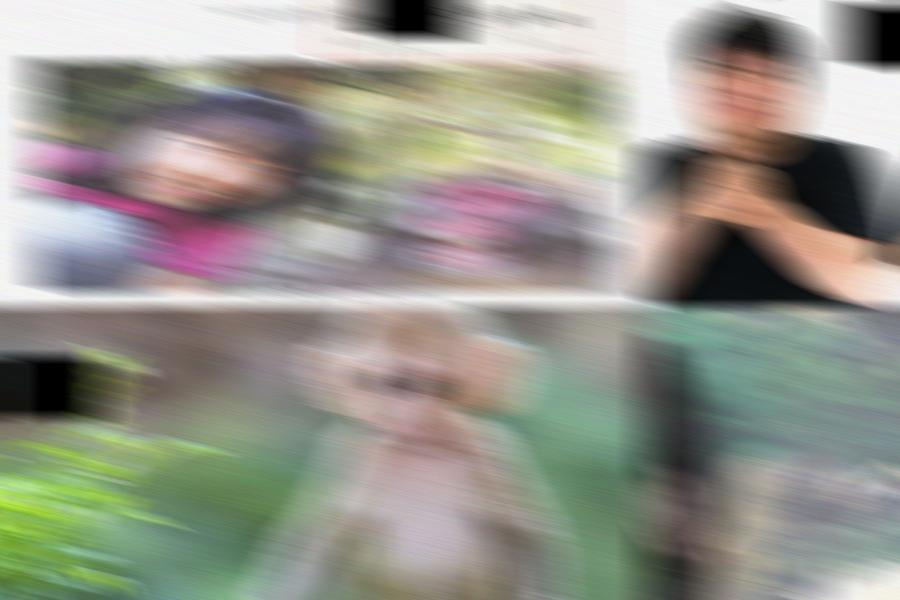Macaca fuscata: (195, 304, 588, 600), (339, 158, 628, 294)
chimpanzee: (640, 304, 719, 600)
human: (640, 2, 900, 307), (27, 84, 347, 297)
